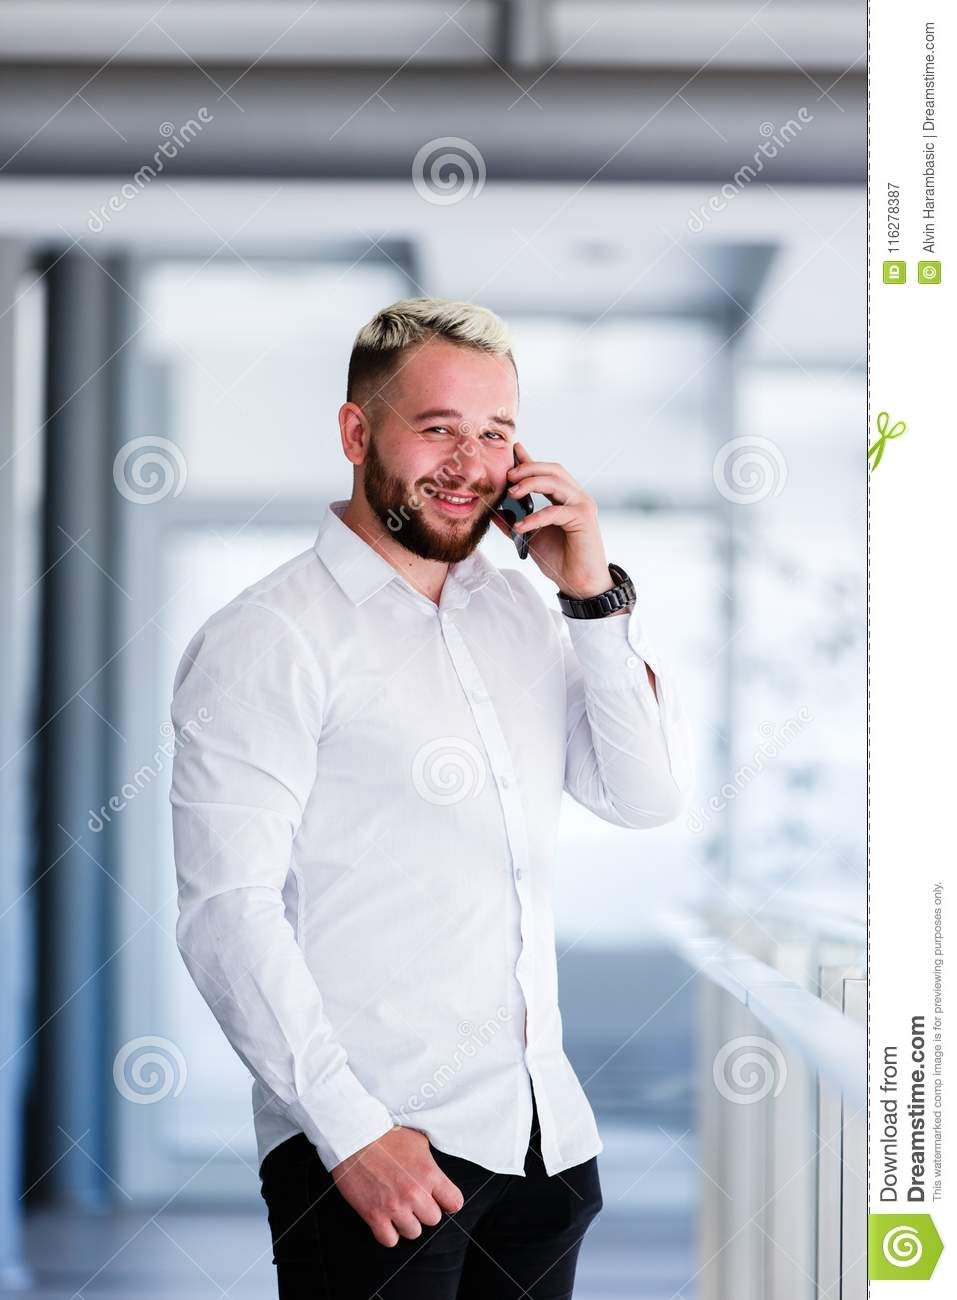phone: (498, 450, 536, 566)
talk: (396, 388, 608, 595)
